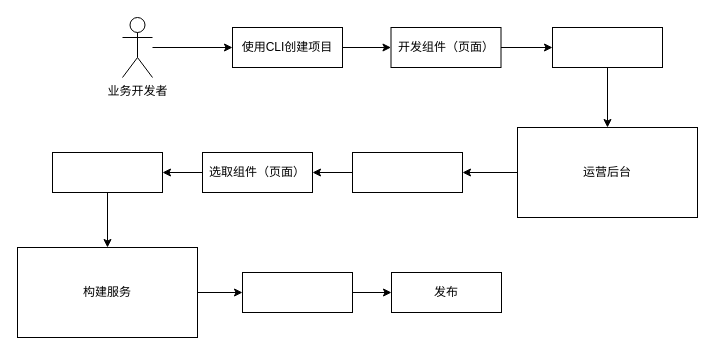
The diagram is 715 pixels wide and 355 high, and some of its shapes have lost their labels. Each missing label, with the centre of its shape:
"创建应用（页面）" belongs at (407,172).
"构建" belongs at (107,172).
"构建完毕" belongs at (297,292).
"通过CLI发布组件" belongs at (607,47).
